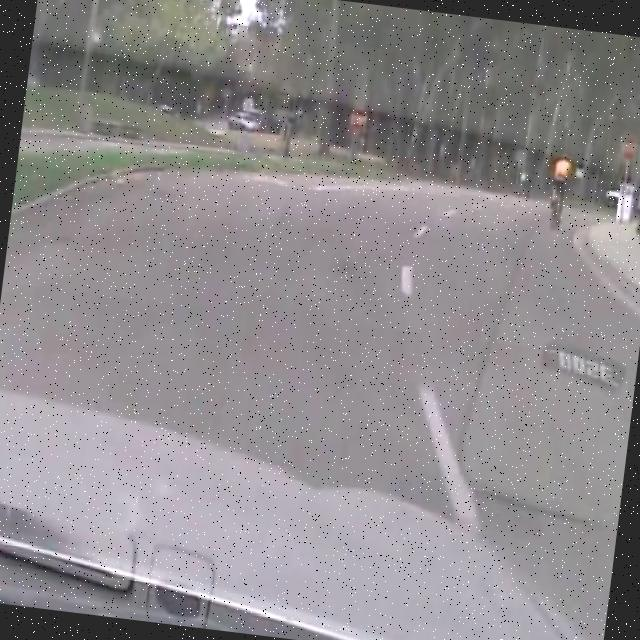Stop: (616, 134, 639, 162)
